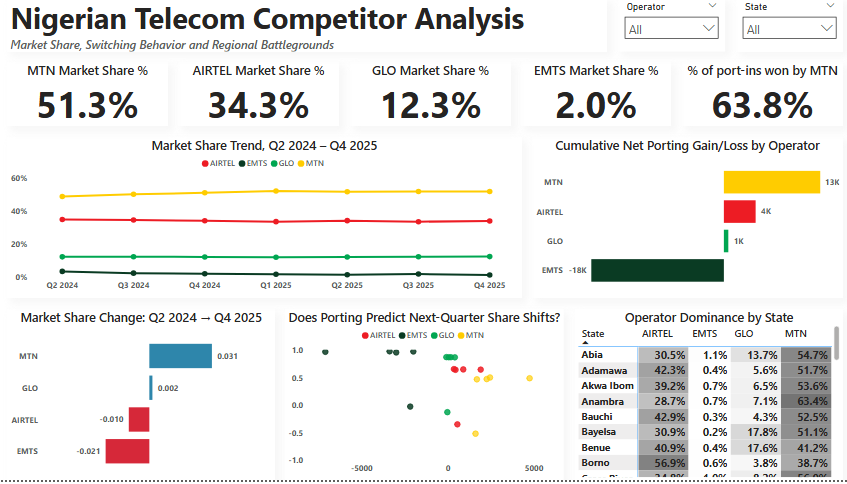

Layout of this report page (visuals, bound fields, positions):
{"tool":"powerbi","page":{"name":"Page 1","canvas":[1280,720],"ordinal":0},"visuals":[{"type":"card","title":"MTN Market Share %","fields":{"Values":["Voice.Market Share %"]},"box":[16,96,240,96],"z":0},{"type":"card","title":"AIRTEL Market Share %","fields":{"Values":["Voice.Market Share %"]},"box":[272,96,240,96],"z":1000},{"type":"card","title":"GLO Market Share %","fields":{"Values":["Voice.Market Share %"]},"box":[528,96,240,96],"z":2000},{"type":"card","title":"EMTS Market Share %","fields":{"Values":["Voice.Market Share %"]},"box":[784,96,224,96],"z":3000},{"type":"card","title":"% of port-ins won by MTN","fields":{"Values":["Master_Port1.MTN Port-In Share"]},"box":[1024,96,240,96],"z":4000},{"type":"lineChart","title":"Market Share Trend, Q2 2024 – Q4 2025","fields":{"Y":["Voice.Market Share %"],"Series":["Voice.Operator"],"Category":["Voice.Period Label"]},"box":[16,208,768,240],"z":5000},{"type":"barChart","title":"Market Share Change: Q2 2024 → Q4 2025","fields":{"Y":["Voice.Share Δ"],"Category":["Voice.Operator"]},"box":[16,464,400,256],"z":6000},{"type":"barChart","title":"Cumulative Net Porting Gain/Loss by Operator","fields":{"Y":["Master_Port1.Cumulative Net Flow"],"Category":["Master_Port1.Operator"]},"box":[800,208,464,240],"z":7000},{"type":"scatterChart","title":"Does Porting Predict Next-Quarter Share Shifts?","fields":{"X":["Master_Port1.Net Flow (Quarterly)"],"Y":["Voice.Next Quarter Share Change"],"Series":["Voice.Operator"],"Category":["Voice.Period Sort Key","Voice.Operator"]},"box":[432,464,416,256],"z":8000},{"type":"pivotTable","title":"Operator Dominance by State","fields":{"Rows":["Voice.State"],"Columns":["Voice.Operator"],"Values":["Voice.Market Share %"]},"box":[864,464,400,256],"z":9000},{"type":"slicer","fields":{"Values":["Master_Port1.Operator"]},"box":[928,0,160,80],"z":10000},{"type":"slicer","fields":{"Values":["Voice.State"]},"box":[1104,0,160,80],"z":11000},{"type":"textbox","title":"Nigerian Telecom Competitor Analysis","box":[16,0,896,80],"z":12000}]}

Visuals, with their boxes in screenshot pixels (x1, y1, x2, y2), scaled from the page's 1280x720 canvas onto the 847x484 screenshot:
"MTN Market Share %" card: 11,65,169,129
"AIRTEL Market Share %" card: 180,65,339,129
"GLO Market Share %" card: 349,65,508,129
"EMTS Market Share %" card: 519,65,667,129
"% of port-ins won by MTN" card: 678,65,836,129
"Market Share Trend, Q2 2024 – Q4 2025" lineChart: 11,140,519,301
"Market Share Change: Q2 2024 → Q4 2025" barChart: 11,312,275,483
"Cumulative Net Porting Gain/Loss by Operator" barChart: 529,140,836,301
"Does Porting Predict Next-Quarter Share Shifts?" scatterChart: 286,312,561,483
"Operator Dominance by State" pivotTable: 572,312,836,483
slicer - Master_Port1.Operator: 614,0,720,54
slicer - Voice.State: 731,0,836,54
"Nigerian Telecom Competitor Analysis" textbox: 11,0,603,54
